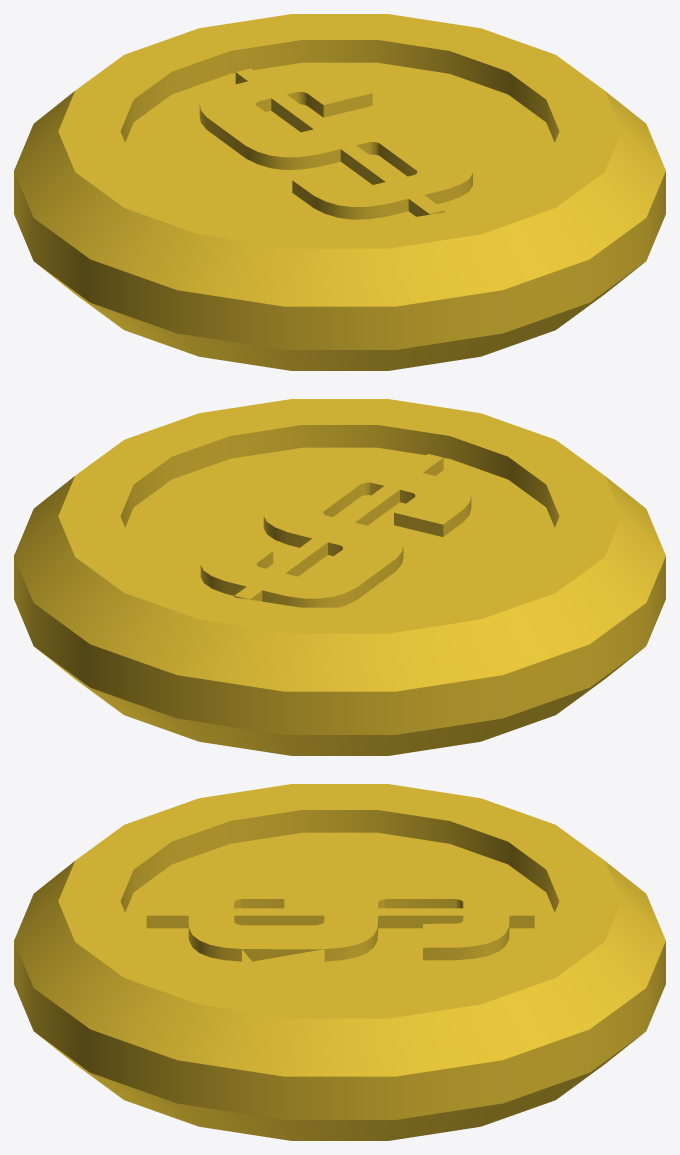
File: coin.glb
3 views of the same model, one above another, from view 1: azimuth 30°, elevation 25°; view 2: azimuth 150°, elevation 25°; view 3: azimuth 270°, elevation 25° (orthographic).
Parts seen in each view (by area): view 1: Coin; view 2: Coin; view 3: Coin.
Part boxes in pixels (x1,y1,x2,y2): Coin: (14,14,665,370); Coin: (14,399,665,755); Coin: (14,784,665,1140).
Size of the model in its own units: 1.97 by 0.4139 by 2.
